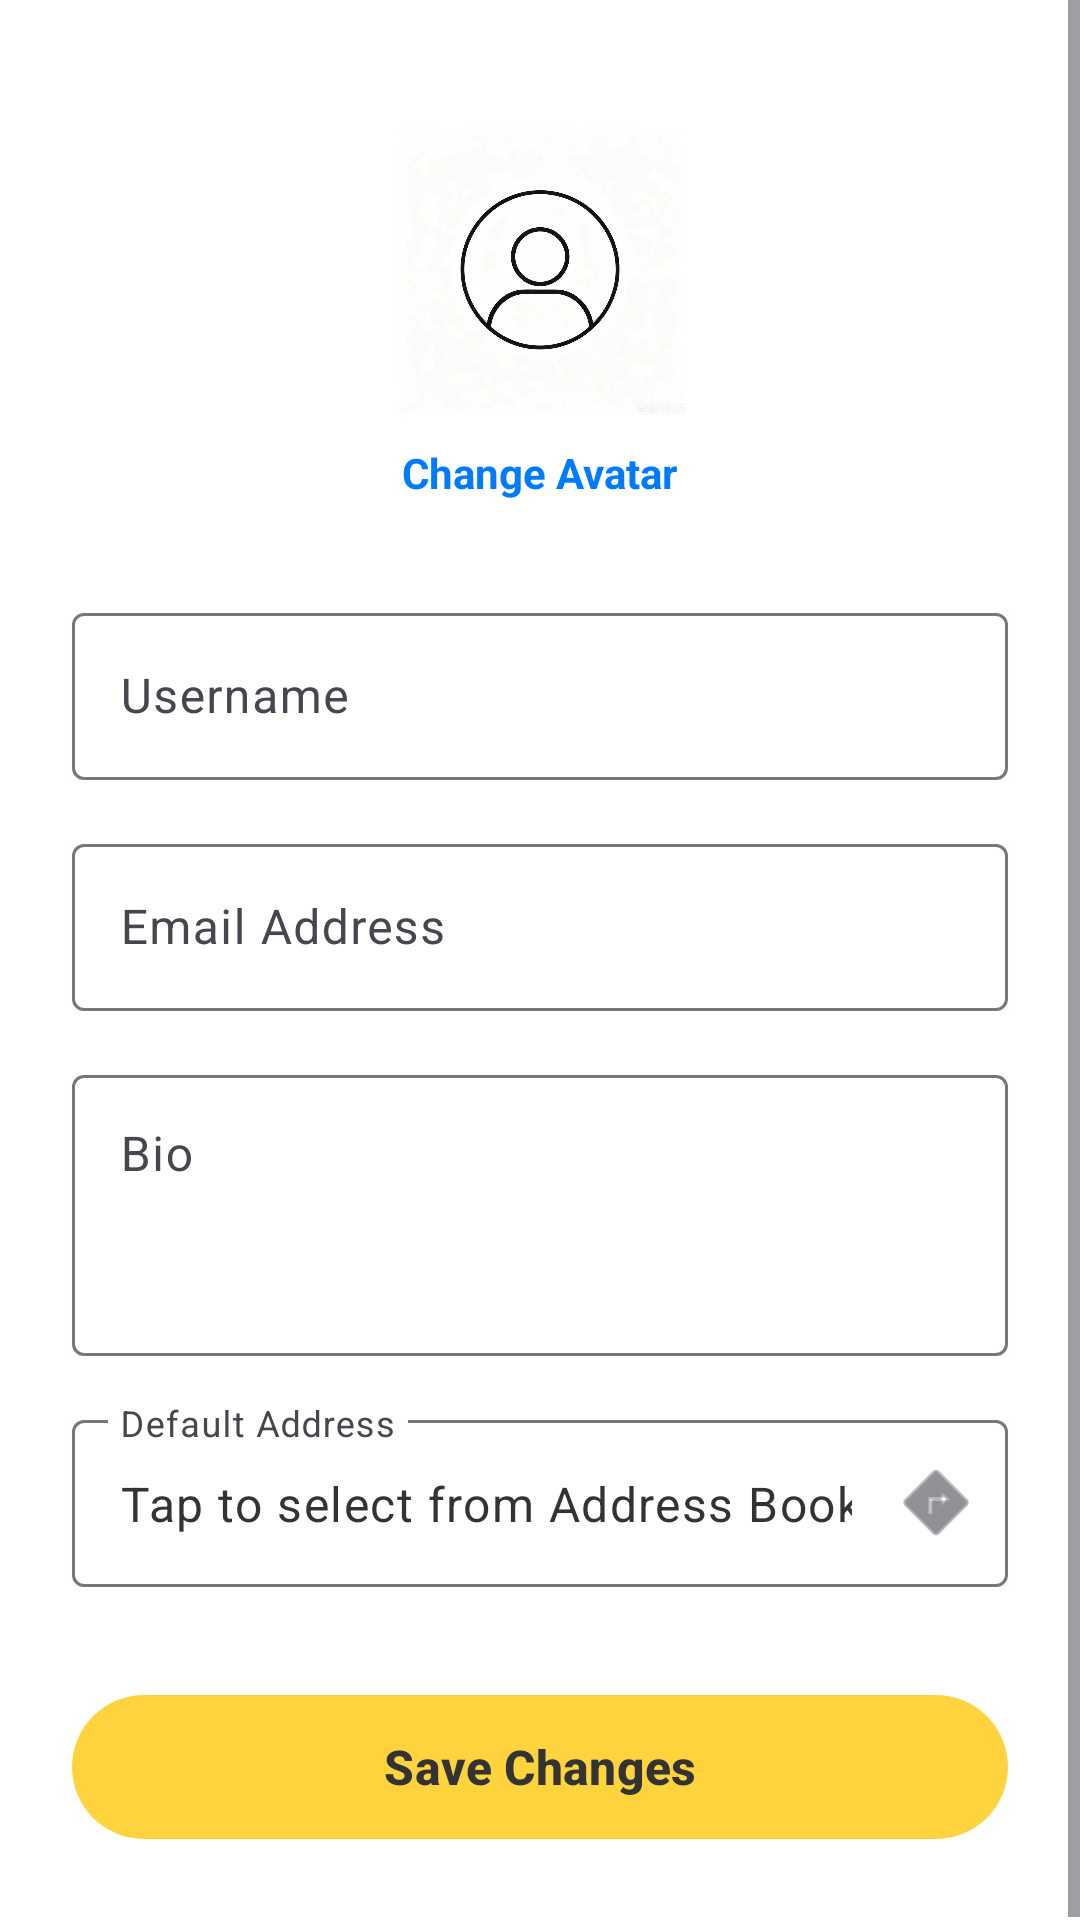

Screen size 1080×1920. Icon name, then its center in pixels as (x=x, y=y):
profile: (x=540, y=270)
